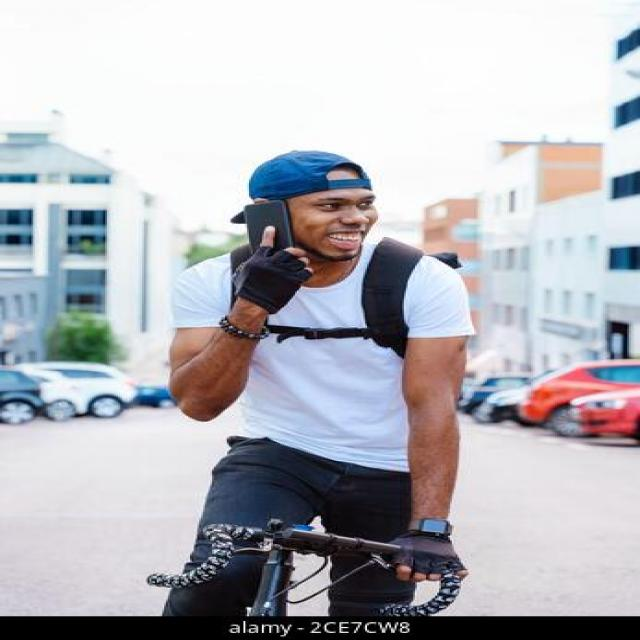Not Wearing Helmet: (237, 127, 393, 271)
Usage Of Phone While Riding: (110, 150, 480, 322)
